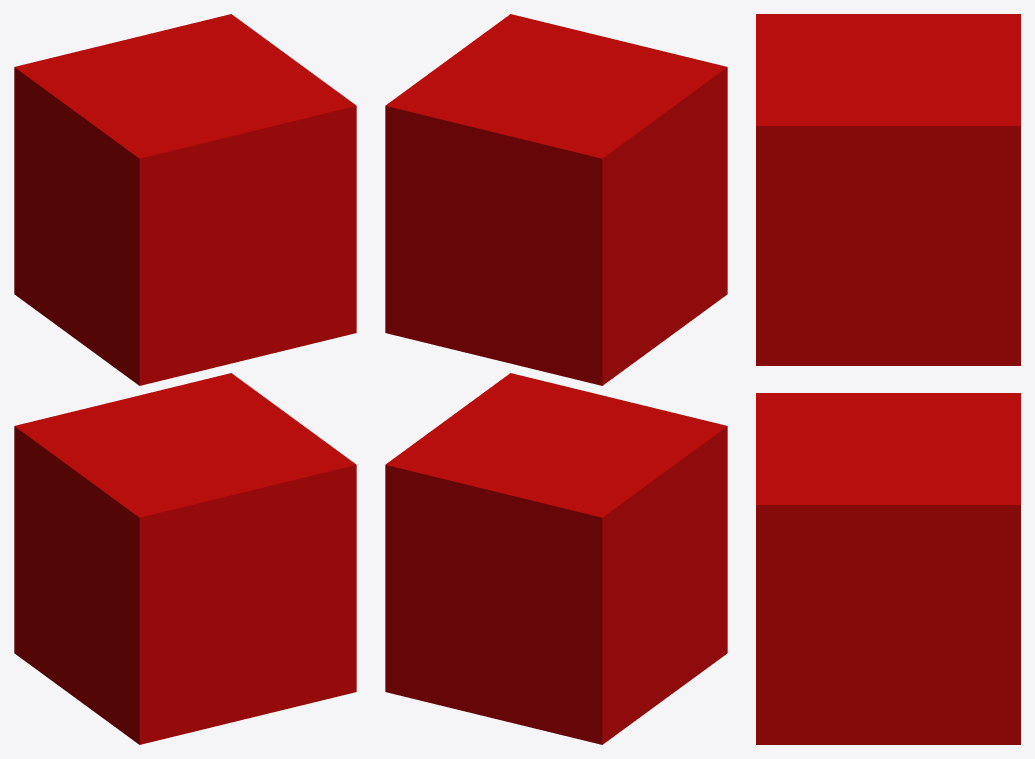
The model's file is reds.obj.
3 views of the same model, side by side, from view 1: azimuth 30°, elevation 25°; view 2: azimuth 150°, elevation 25°; view 3: azimuth 270°, elevation 25° (orthographic). The views are drawn at different scales.
Parts seen in each view (by area): view 1: Cube_Cube.001, Cube_translaté_Cube.002; view 2: Cube_Cube.001, Cube_translaté_Cube.002; view 3: Cube_Cube.001, Cube_translaté_Cube.002.
Part boxes in pixels (left/top/right/bottom): Cube_Cube.001: left=14, top=373, right=356, bottom=744; Cube_translaté_Cube.002: left=14, top=14, right=356, bottom=385; Cube_Cube.001: left=385, top=373, right=727, bottom=744; Cube_translaté_Cube.002: left=385, top=14, right=727, bottom=385; Cube_Cube.001: left=756, top=393, right=1020, bottom=744; Cube_translaté_Cube.002: left=756, top=14, right=1020, bottom=365.
Size of the model in its own units: 135 by 349 by 135.
